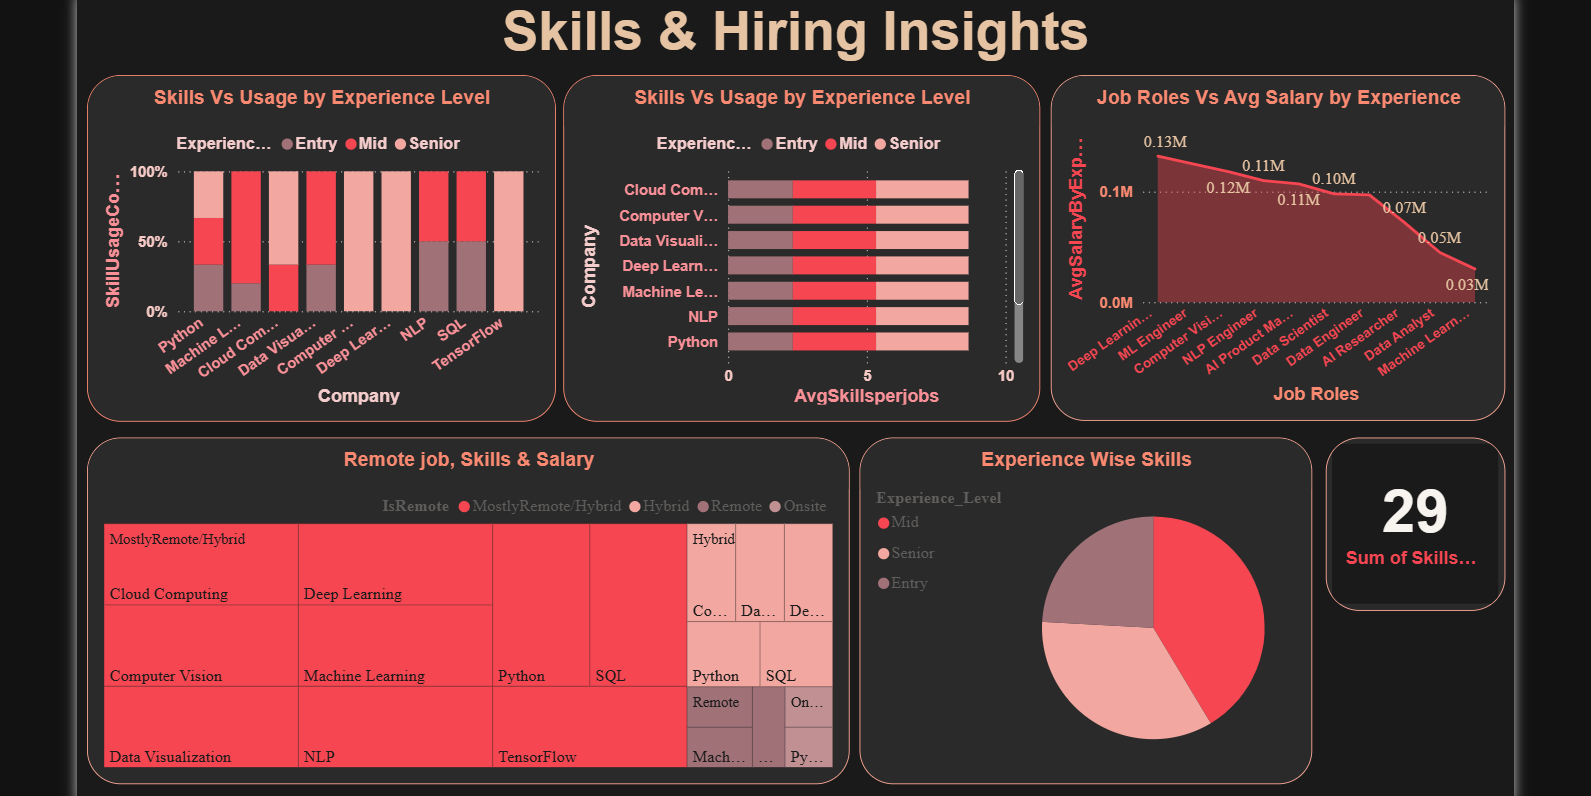

Layout of this report page (visuals, bound fields, positions):
{"tool":"powerbi","page":{"name":"Skills & Hiring Insights","canvas":[1280,720],"ordinal":3},"visuals":[{"type":"hundredPercentStackedColumnChart","title":"Skills Vs Usage by Experience Level","fields":{"Series":["Fact_Jobs.Experience_Level"],"Category":["Dim_Skills.Skill_Name"],"Y":["Dim_Skills.SkillUsageCount"]},"box":[8.4,71.2,417.4,308.8],"z":0},{"type":"textbox","box":[0,0,1280,71.2],"z":1000},{"type":"cardVisual","title":"Total Jobs ","fields":{"Data":["Sum(Fact_Jobs.SkillsCount)"]},"box":[1100.3,394.5,167.7,120.6],"z":2000},{"type":"lineChart","title":"Job Roles Vs Avg Salary by Experience","fields":{"Category":["Fact_Jobs.Job_Title"],"Y":["Fact_Jobs.AvgSalaryByExperience"]},"box":[867.4,71.2,412.6,308.8],"z":3000},{"type":"barChart","title":"Skills Vs Usage by Experience Level","fields":{"Category":["Dim_Skills.Skill_Name"],"Series":["Fact_Jobs.Experience_Level"],"Y":["Fact_Job_Skills.AvgSkillsperjobs"]},"box":[433.1,71.2,424.7,308.8],"z":4000},{"type":"treemap","title":"Remote job, Skills & Salary","fields":{"Group":["Fact_Jobs.IsRemote"],"Details":["Dim_Skills.Skill_Name"],"Values":["Sum(Fact_Jobs.Salary_USD)"]},"box":[8.4,394.5,679.2,308.8],"z":5000},{"type":"pieChart","title":"Experience Wise Skills ","fields":{"Y":["Dim_Skills.SkillUsageCount"],"Category":["Fact_Jobs.Experience_Level"]},"box":[697.3,394.5,403,308.8],"z":6000}]}

Visuals, with their boxes on the page's 1280x720 design canvas (x1, y1, x2, y2). These are canvas units, not pixel positions in the 1591x796 screenshot, which may show the page scaled, cropped or inside an application window:
"Skills Vs Usage by Experience Level" hundredPercentStackedColumnChart: bbox(8, 71, 426, 380)
textbox: bbox(0, 0, 1280, 71)
"Total Jobs " cardVisual: bbox(1100, 394, 1268, 515)
"Job Roles Vs Avg Salary by Experience" lineChart: bbox(867, 71, 1280, 380)
"Skills Vs Usage by Experience Level" barChart: bbox(433, 71, 858, 380)
"Remote job, Skills & Salary" treemap: bbox(8, 394, 688, 703)
"Experience Wise Skills " pieChart: bbox(697, 394, 1100, 703)
